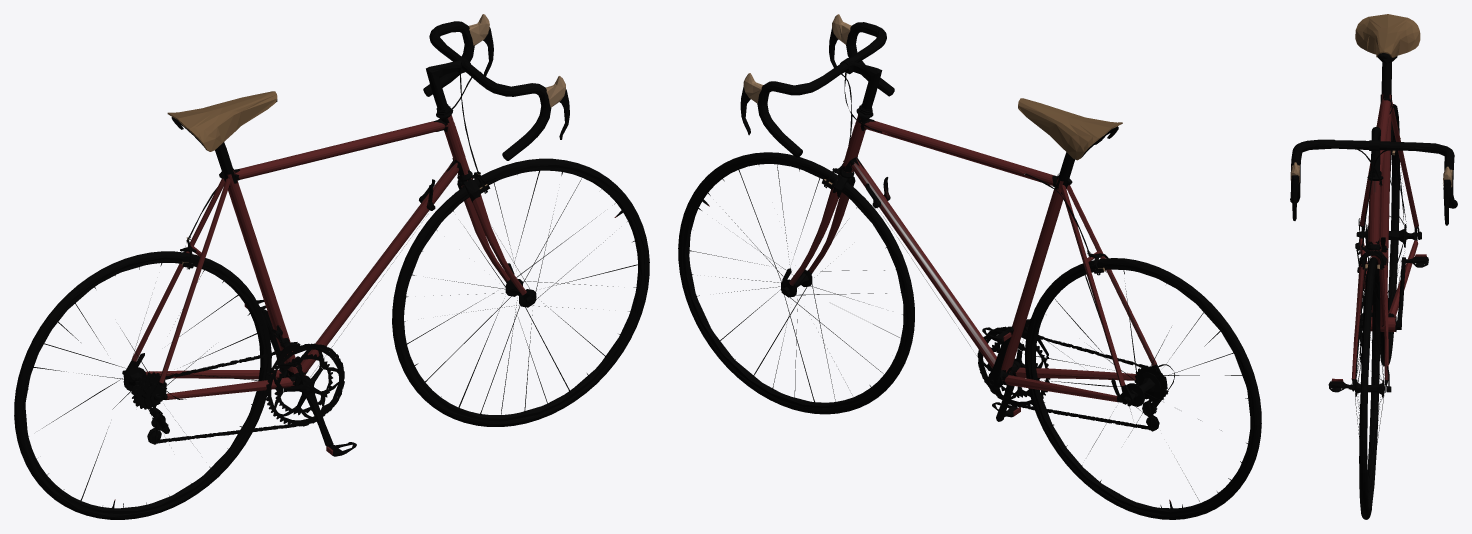
Rendered from bike-lite.glb.
3 views of the same model, side by side, from view 1: azimuth 30°, elevation 25°; view 2: azimuth 150°, elevation 25°; view 3: azimuth 270°, elevation 25° (orthographic). The views are drawn at different scales.
Visible parts, largest first — view 1: Object_2; view 2: Object_2; view 3: Object_2.
Part boxes in pixels (<box>): Object_2: <box>14,14,649,519</box>; Object_2: <box>678,14,1261,519</box>; Object_2: <box>1290,14,1457,519</box>.
Size of the model in its own units: 17.54 by 10.75 by 4.54.
